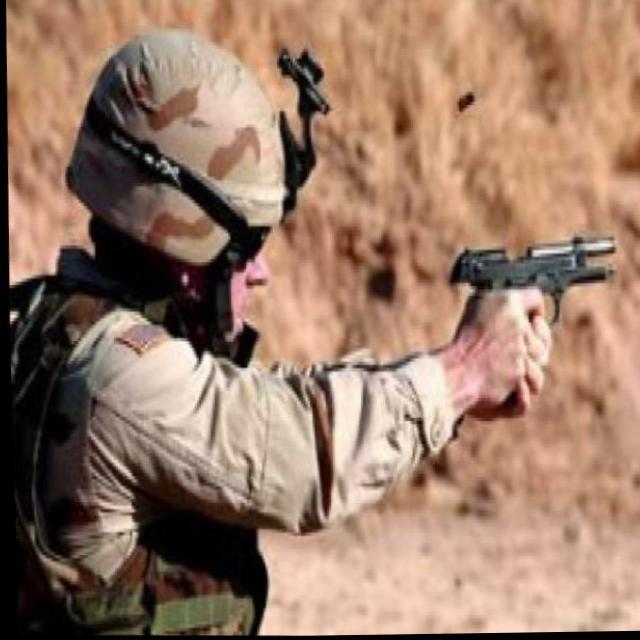weapon: (454, 225, 634, 339)
